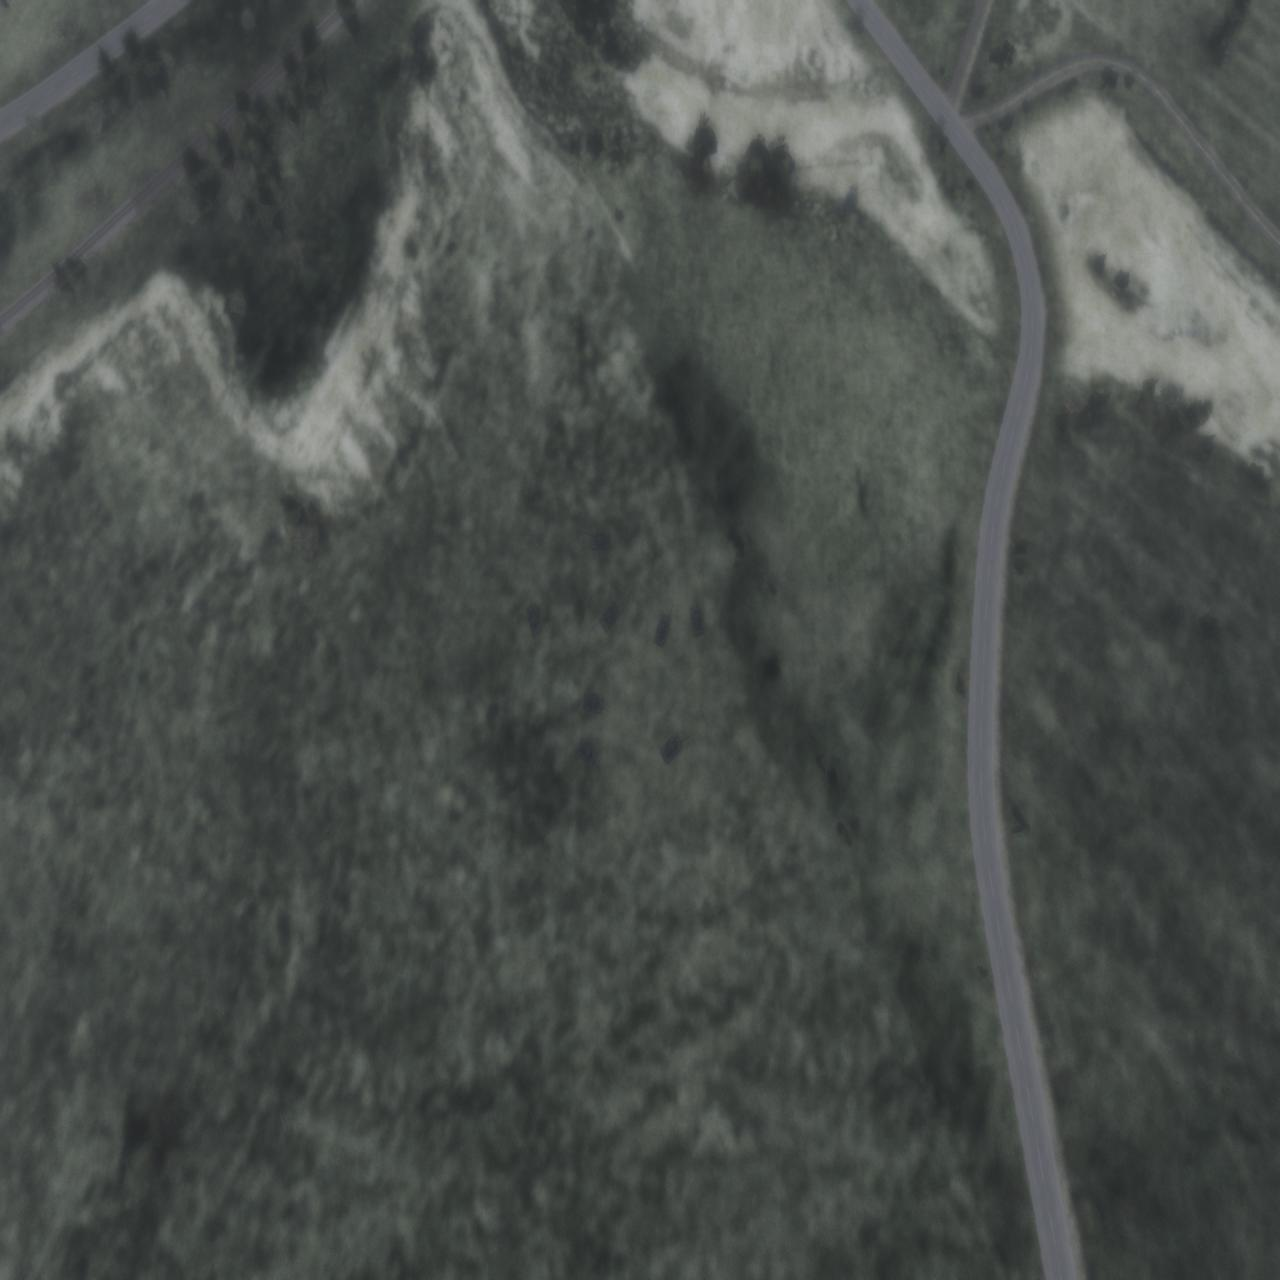MIL_Veh: (660, 730, 690, 761), (595, 602, 621, 635), (654, 606, 673, 651), (583, 688, 610, 719), (579, 735, 601, 770), (689, 590, 704, 636), (588, 526, 613, 553), (525, 601, 543, 636)
